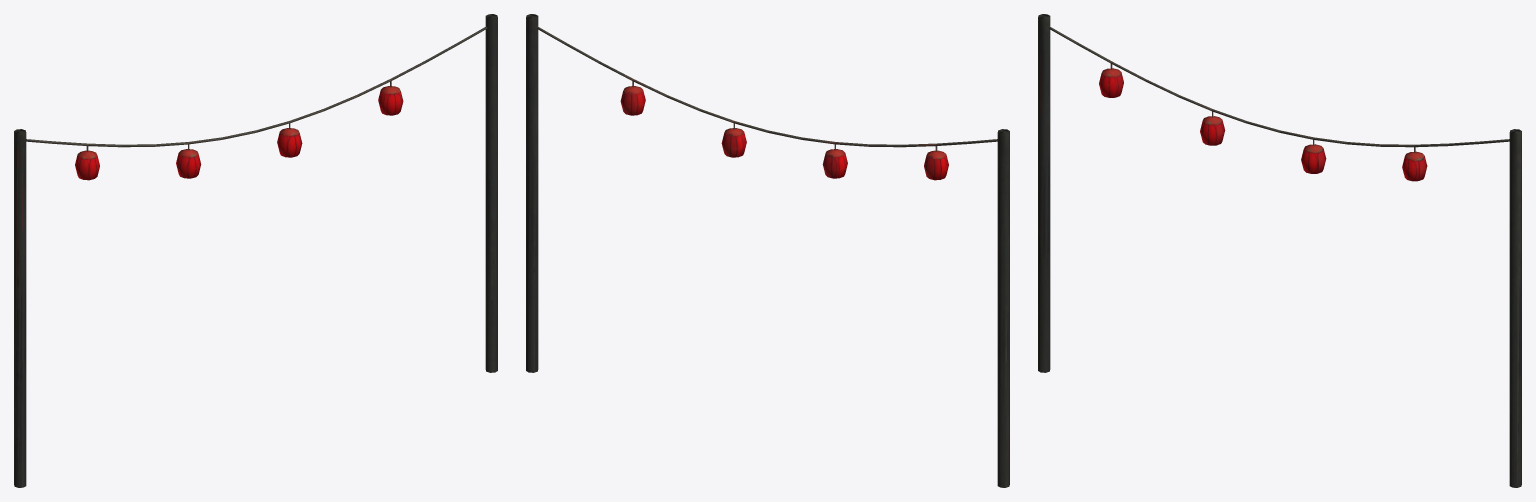
File: lantern_string.glb
The picture shows the model from 3 angles, left to right: view 1: azimuth 30°, elevation 25°; view 2: azimuth 150°, elevation 25°; view 3: azimuth 330°, elevation 25°; orthographic projection.
Visible parts, largest first — view 1: lantern_string; view 2: lantern_string; view 3: lantern_string.
Boxes of the visible parts, x1=… form: lantern_string: x1=14, y1=14, x2=497, y2=487; lantern_string: x1=526, y1=14, x2=1009, y2=487; lantern_string: x1=1038, y1=14, x2=1521, y2=487.
Size of the model in its own units: 6.14 by 4.3 by 0.2663.
Materials: 1 (1 with a texture image).
